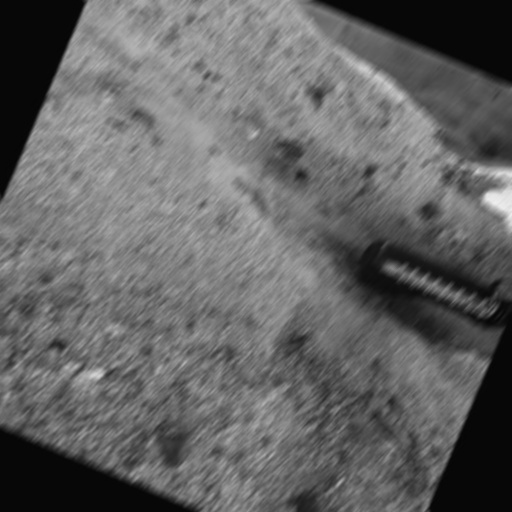bottle: (345, 217, 512, 341)
